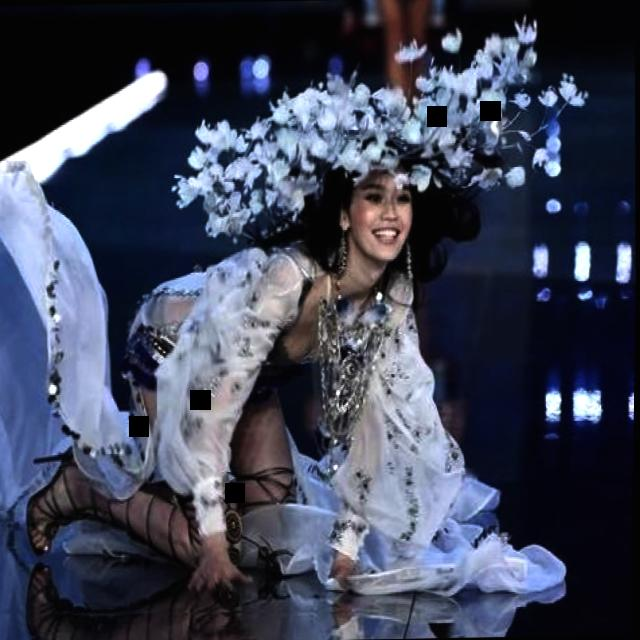Fall-Detected: (4, 134, 550, 640)
